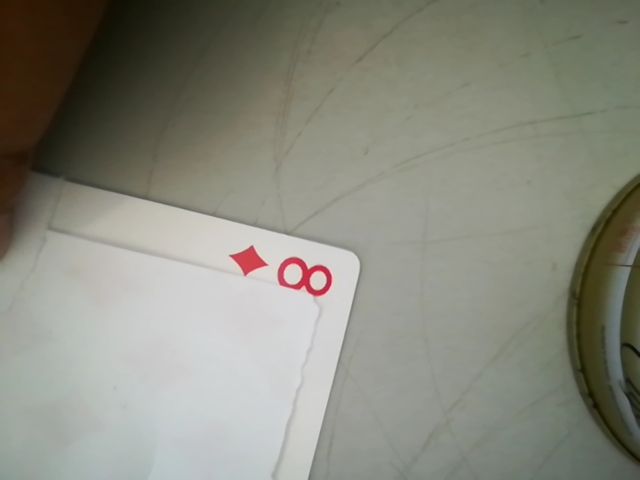fk 8: (231, 244, 353, 302)
